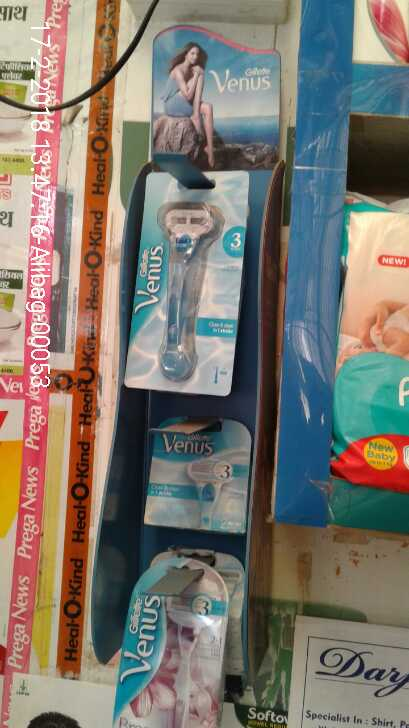venus: (124, 166, 247, 402), (132, 407, 256, 533)
